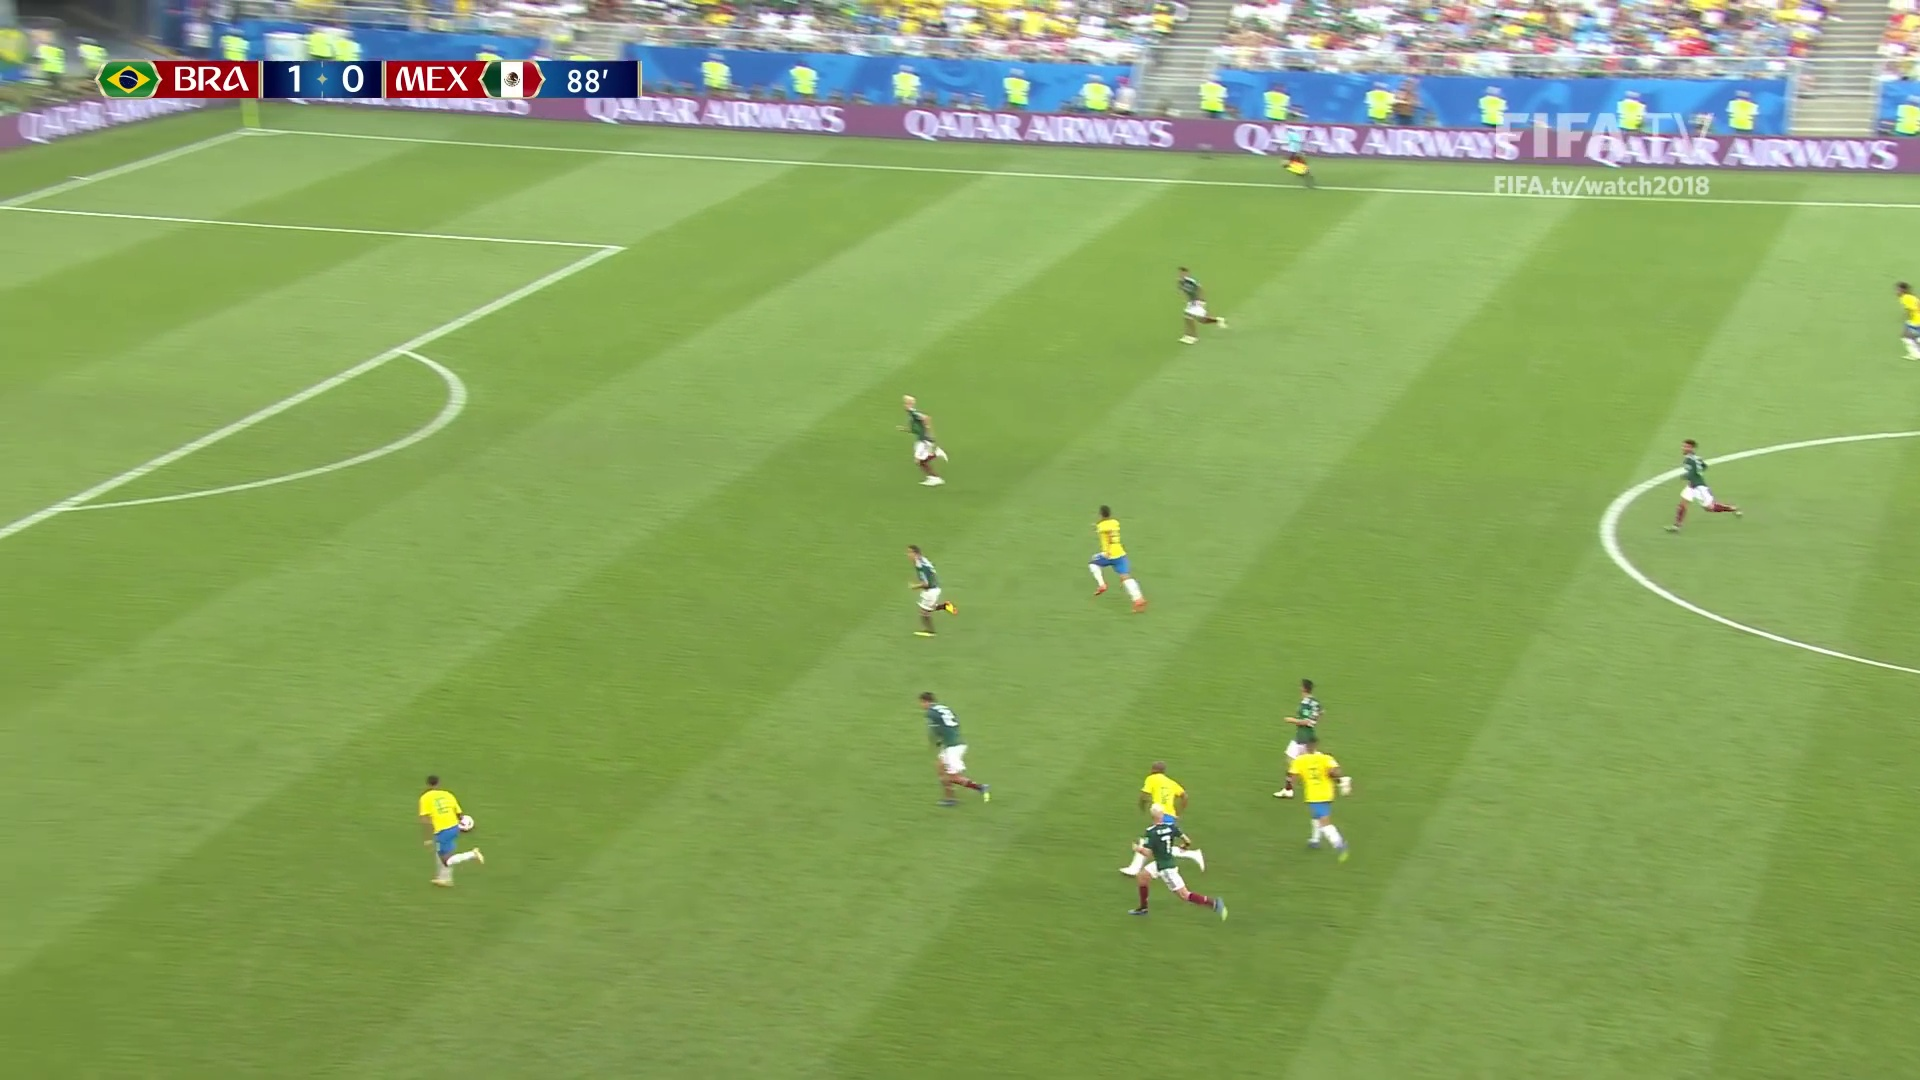ball: (459, 815, 473, 830)
person: (1135, 807, 1229, 915), (918, 688, 987, 809), (1663, 434, 1734, 534), (422, 777, 484, 886), (1293, 738, 1347, 858), (1084, 509, 1142, 609), (1277, 676, 1323, 797), (905, 545, 954, 638), (899, 396, 945, 486), (1176, 265, 1221, 338), (1143, 763, 1184, 824), (1895, 277, 1920, 354)
